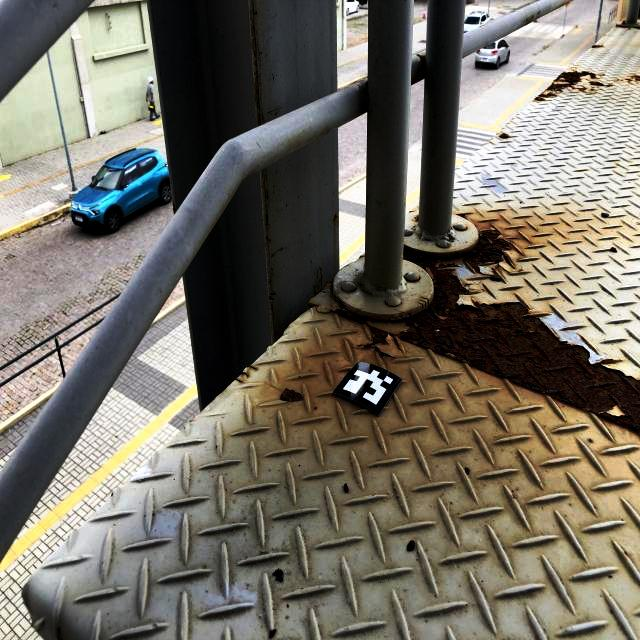Corrosion: (399, 251, 640, 432), (463, 229, 511, 275), (534, 70, 597, 102), (333, 308, 370, 325), (363, 327, 389, 347), (371, 330, 388, 344), (588, 81, 613, 87), (502, 252, 512, 265), (629, 74, 640, 81), (576, 86, 587, 93), (456, 213, 467, 219), (591, 44, 604, 48), (499, 133, 509, 138), (625, 78, 632, 84), (415, 216, 418, 222)
